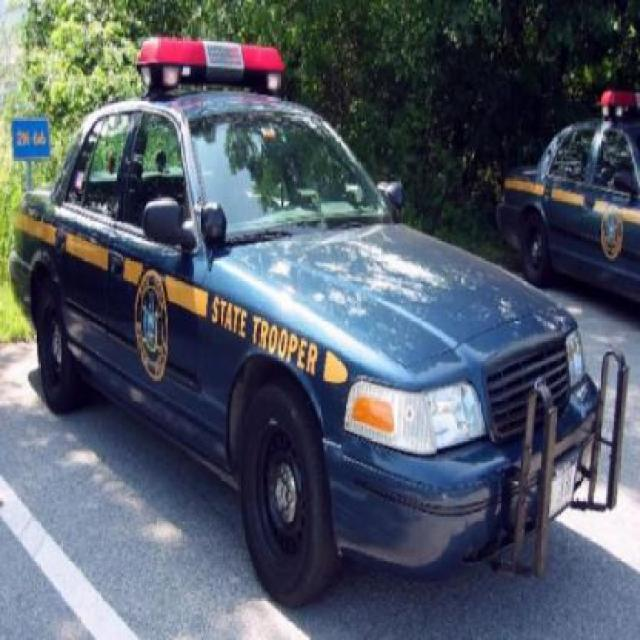License-Plates: (544, 446, 581, 524)
